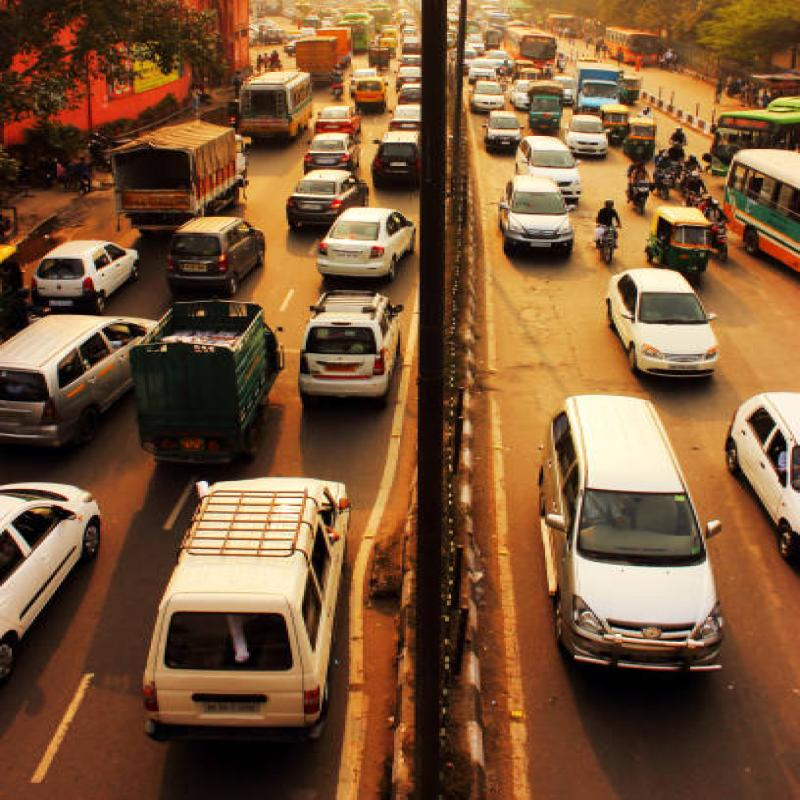car: (521, 378, 771, 682), (177, 458, 329, 712), (606, 266, 759, 385), (321, 208, 419, 284), (312, 297, 396, 368), (491, 186, 576, 252), (285, 173, 367, 206)
